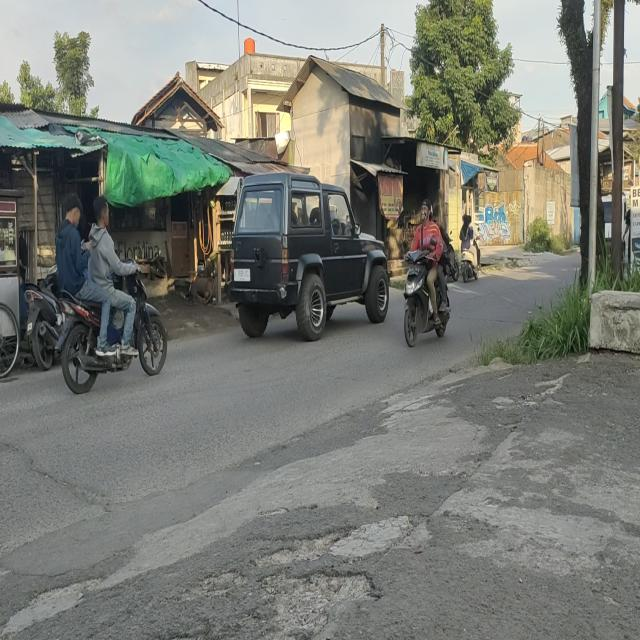no-helmet: (62, 192, 82, 226), (93, 198, 109, 234), (420, 199, 431, 221), (462, 213, 469, 229), (468, 216, 472, 224)
